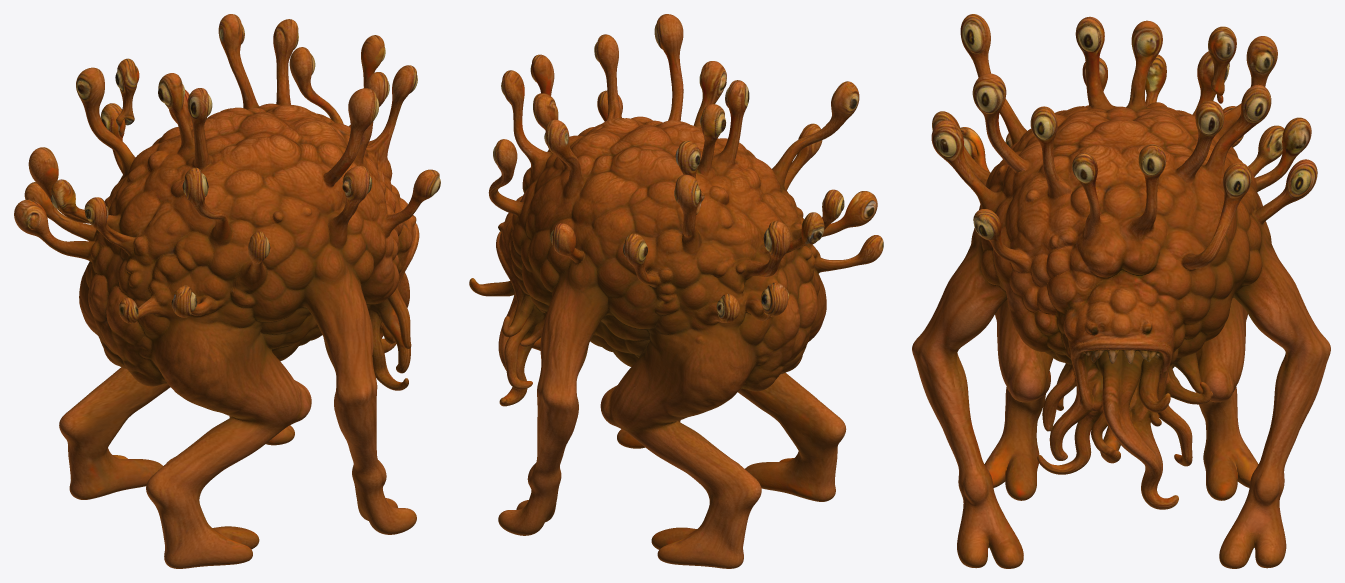
The model's file is Roluc Stalker.glb.
The picture shows the model from 3 angles, left to right: view 1: azimuth 30°, elevation 25°; view 2: azimuth 150°, elevation 25°; view 3: azimuth 270°, elevation 25°; orthographic projection. The views are drawn at different scales.
Visible parts, largest first — view 1: tripo_node_1d7eab7d-afe8-4e98-a2e0-789f9b1f87d4; view 2: tripo_node_1d7eab7d-afe8-4e98-a2e0-789f9b1f87d4; view 3: tripo_node_1d7eab7d-afe8-4e98-a2e0-789f9b1f87d4.
Part boxes in pixels (x1,y1,x2,y2): tripo_node_1d7eab7d-afe8-4e98-a2e0-789f9b1f87d4: (14, 14, 440, 568); tripo_node_1d7eab7d-afe8-4e98-a2e0-789f9b1f87d4: (469, 14, 883, 568); tripo_node_1d7eab7d-afe8-4e98-a2e0-789f9b1f87d4: (912, 14, 1330, 568).
Size of the model in its own units: 0.8407 by 1 by 0.7916.
1 material, 1 textured.
